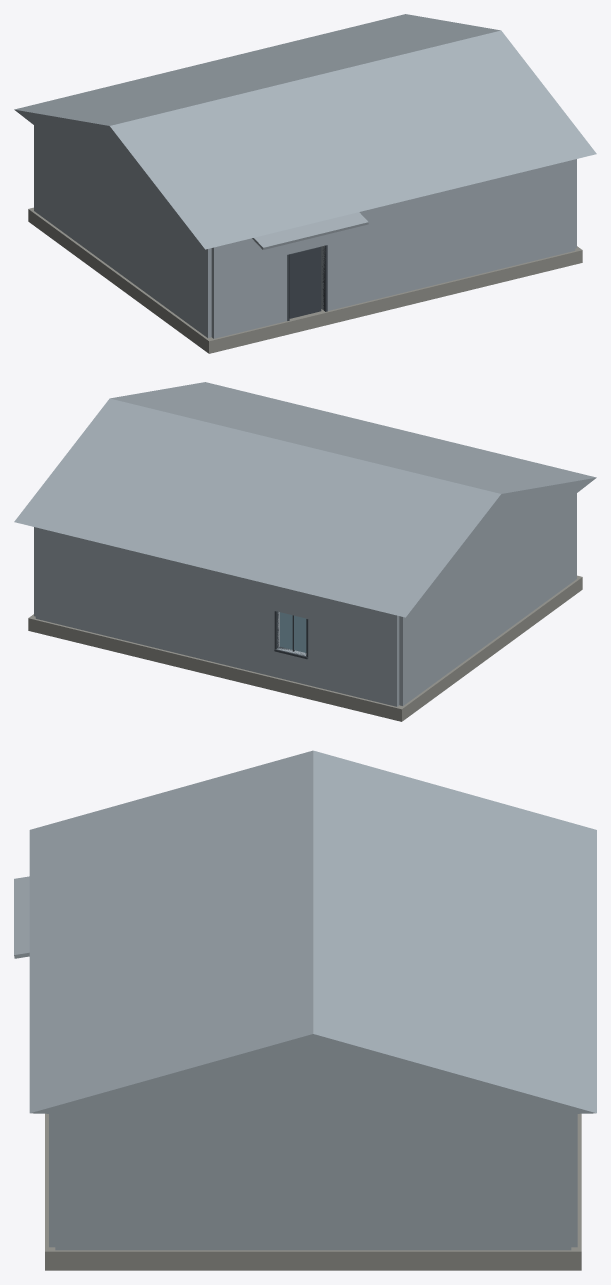
Rendered from FM_Workshop_01.glb.
The picture shows the model from 3 angles, top to bottom: view 1: azimuth 30°, elevation 25°; view 2: azimuth 150°, elevation 25°; view 3: azimuth 270°, elevation 25°; orthographic projection. The views are drawn at different scales.
Parts seen in each view (by area): view 1: FM_Workshop_01; view 2: FM_Workshop_01; view 3: FM_Workshop_01.
Boxes of the visible parts, <box> form: FM_Workshop_01: <box>14,14,596,353</box>; FM_Workshop_01: <box>14,382,596,721</box>; FM_Workshop_01: <box>14,750,596,1270</box>.
Size of the model in its own units: 13 by 5.2 by 11.3.
1 material, 1 textured.
